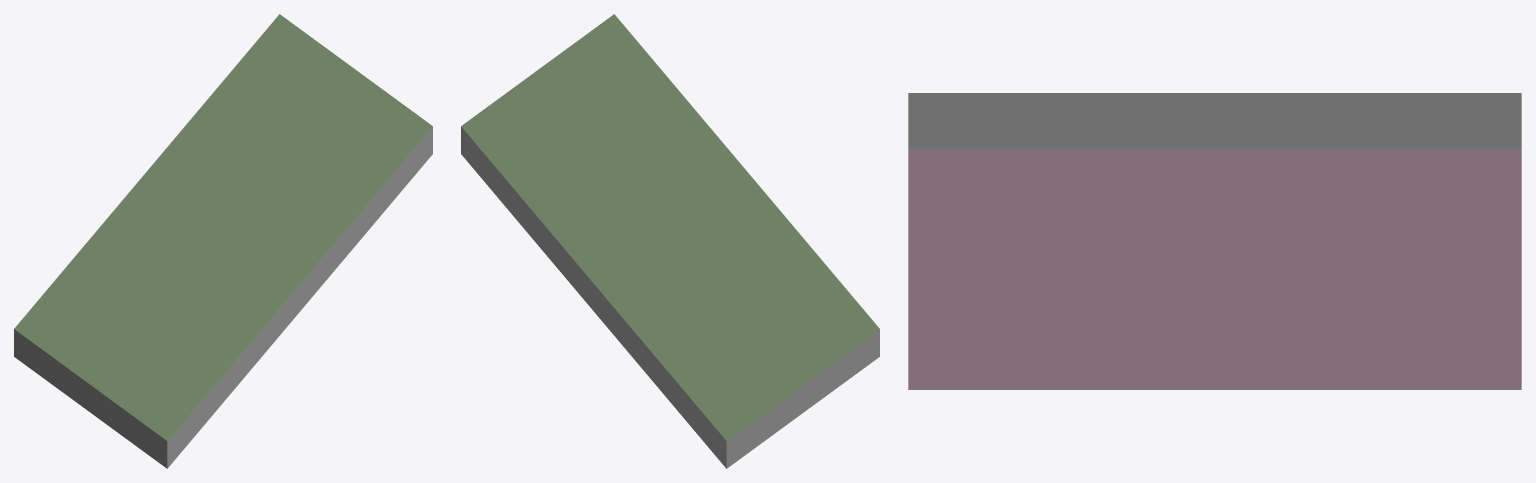
File: curlingpCube564.fbx
The picture shows the model from 3 angles, left to right: view 1: azimuth 30°, elevation 25°; view 2: azimuth 150°, elevation 25°; view 3: azimuth 270°, elevation 25°; orthographic projection. The views are drawn at different scales.
Visible parts, largest first — view 1: pCube564; view 2: pCube564; view 3: pCube564.
Boxes of the visible parts, x1=… form: pCube564: x1=14, y1=14, x2=432, y2=468; pCube564: x1=461, y1=14, x2=879, y2=468; pCube564: x1=908, y1=93, x2=1521, y2=389.
Size of the model in its own units: 100 by 100 by 100.
